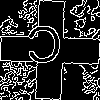C: (25, 25, 63, 72)
